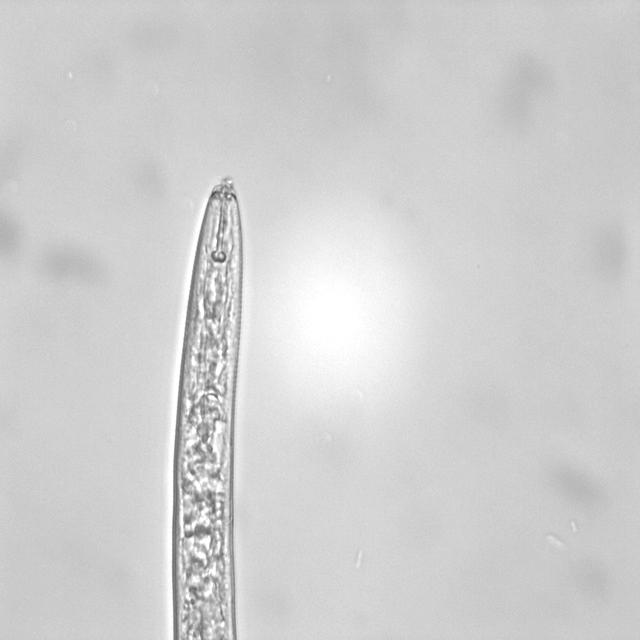Pratylenchus: (174, 168, 263, 640)
